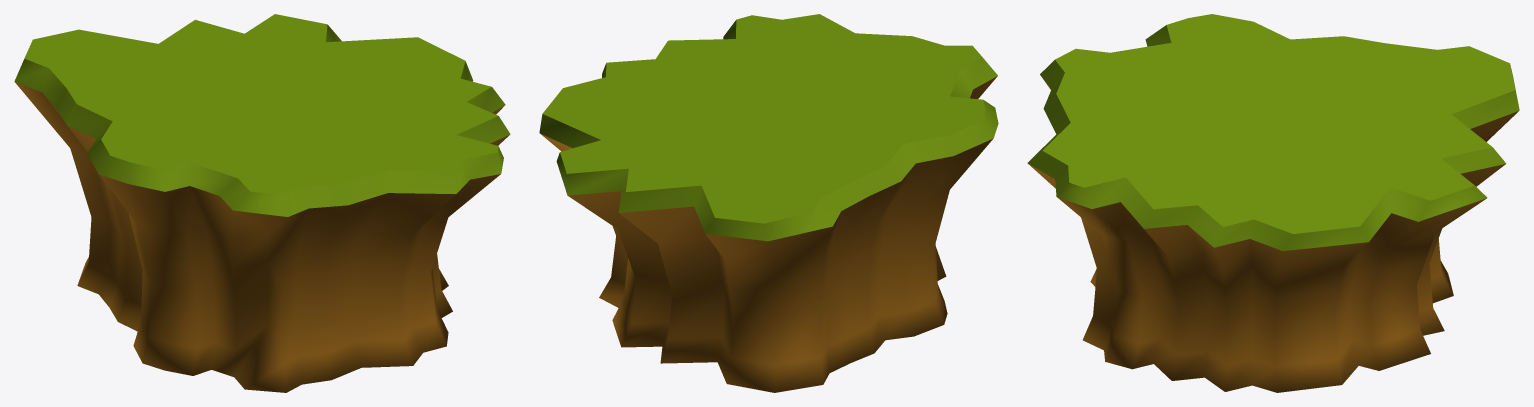
Rendered from IslandBig2.fbx.
3 renders of one model, left to right at view 1: azimuth 30°, elevation 25°; view 2: azimuth 150°, elevation 25°; view 3: azimuth 270°, elevation 25°, orthographic. The views are drawn at different scales.
Parts seen in each view (by area): view 1: Plane.007, Plane.008, Plane.009; view 2: Plane.008, Plane.007, Plane.009; view 3: Plane.008, Plane.007, Plane.009.
Boxes of the visible parts, bbox=[...] form: Plane.007: bbox=[15, 82, 509, 392]; Plane.008: bbox=[24, 14, 498, 194]; Plane.009: bbox=[14, 25, 510, 216]; Plane.008: bbox=[542, 14, 985, 223]; Plane.007: bbox=[540, 76, 997, 392]; Plane.009: bbox=[539, 20, 998, 241]; Plane.008: bbox=[1042, 14, 1515, 233]; Plane.007: bbox=[1028, 78, 1518, 392]; Plane.009: bbox=[1027, 25, 1519, 250].
Size of the model in its own units: 1778 by 906 by 1892.
